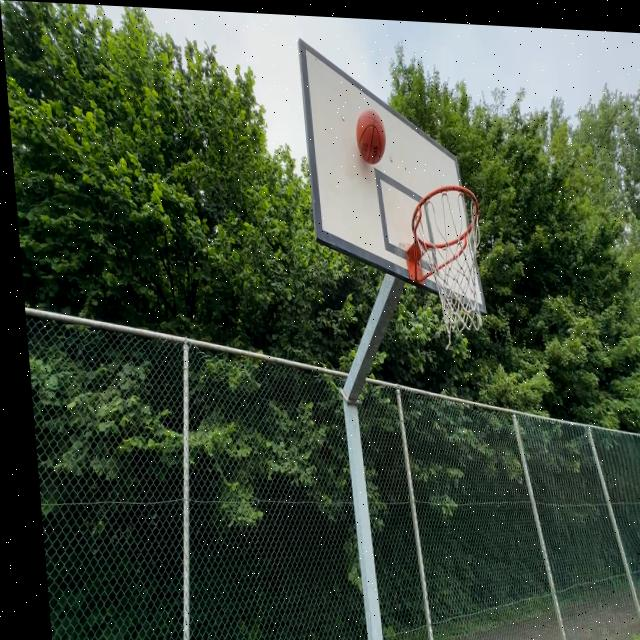rebound_hit: (354, 109, 390, 165)
